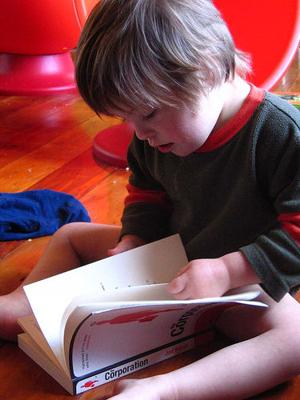person: (1, 3, 299, 398)
